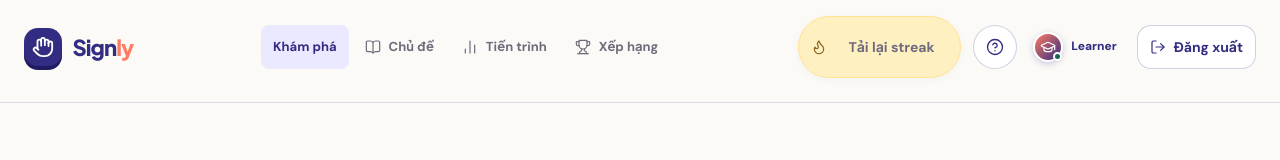
Scenario: shows a retry action when streak fails instead of claiming zero days
Click the button with aria-label "Tải lại chuỗi streak" at (892, 47), box [835, 25, 948, 69]
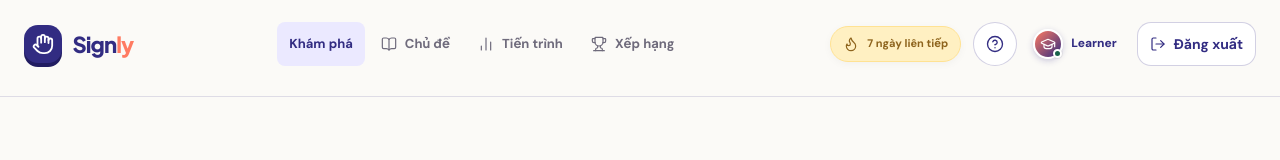
Expected: the text "7 ngày liên tiếp" is shown, [867, 35, 948, 53]
